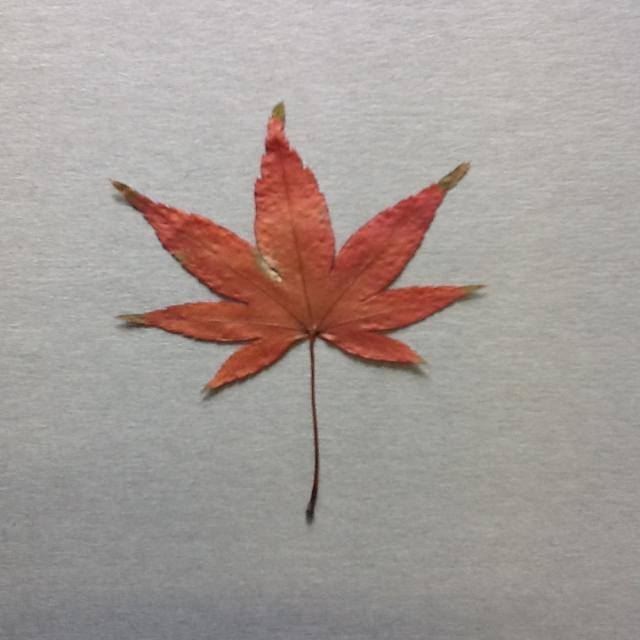foliage: (110, 100, 486, 526)
